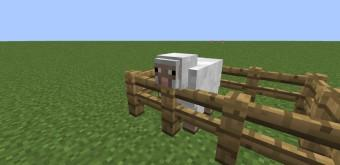sheep: (153, 51, 224, 118)
